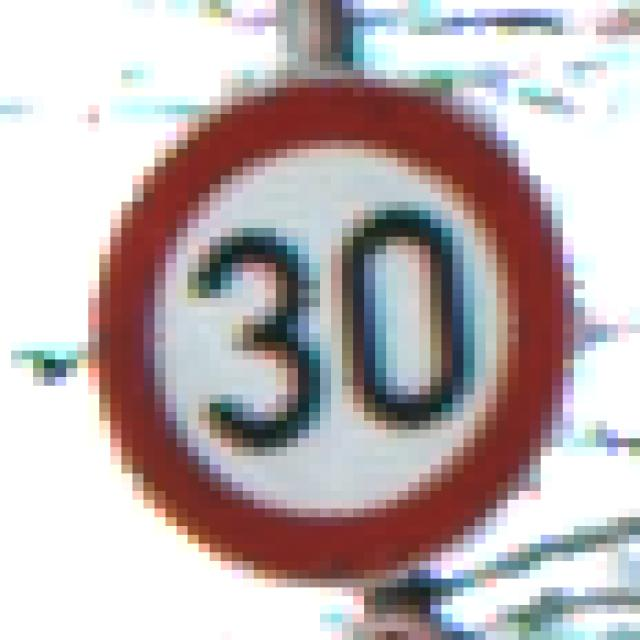Speed Limit -30-: (55, 48, 563, 574)
